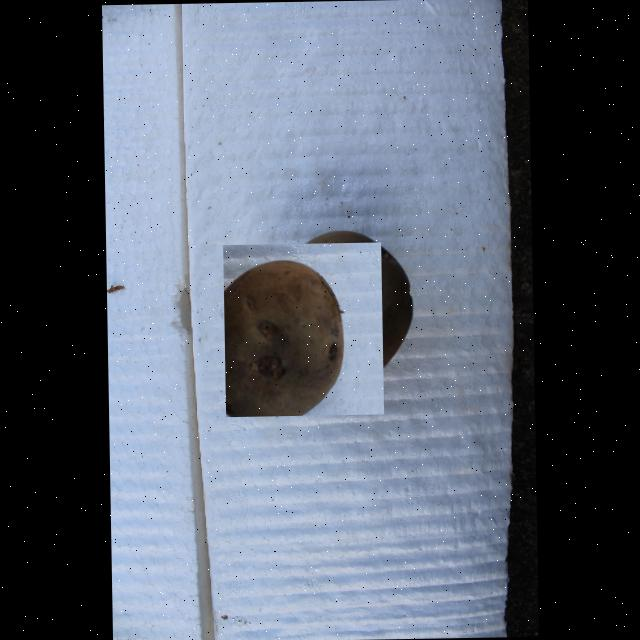Diseased-fungal potato: (222, 241, 384, 416)
